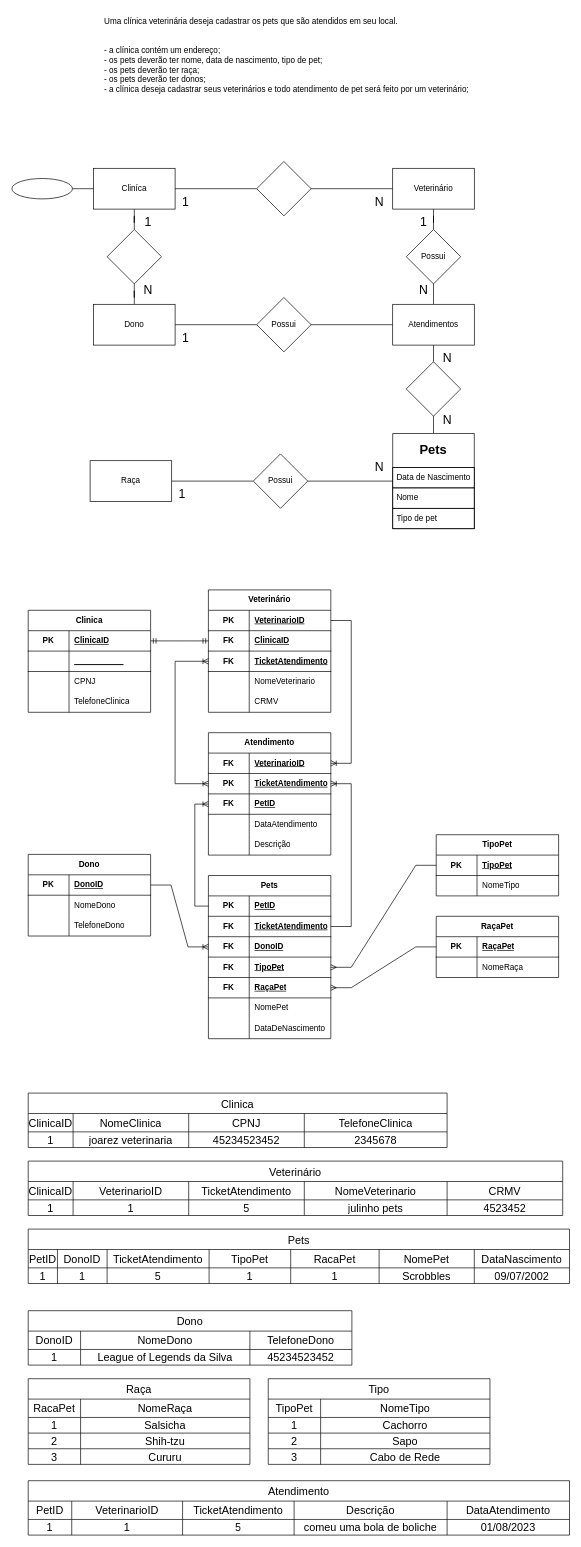
This 581x1547 diagram has some shape labels left out. The centre of each missing label's shape, as x and y in pixels:
Atende: the point at 433,388
Contata: the point at 134,256
Contém: the point at 283,188
Endereço: the point at 41,188
